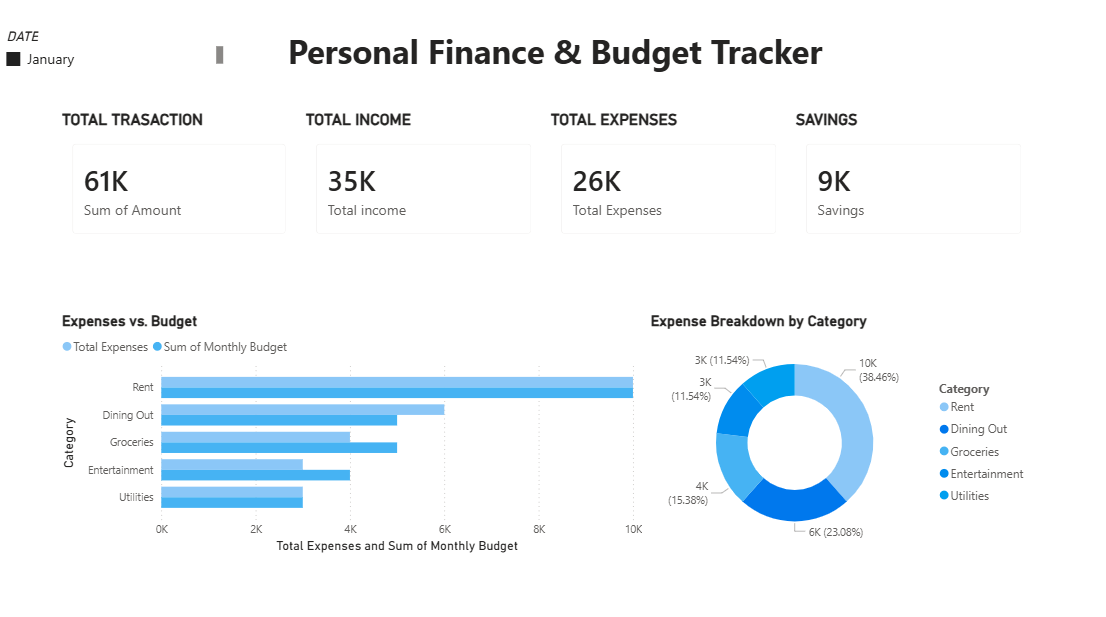

Layout of this report page (visuals, bound fields, positions):
{"tool":"powerbi","page":{"name":"Page 1","canvas":[1280,720],"ordinal":0},"visuals":[{"type":"cardVisual","title":"TOTAL TRASACTION ","fields":{"Data":["Sum(Transactions.Amount)"]},"box":[71.4,130,278.6,158.6],"z":0},{"type":"cardVisual","title":"TOTAL EXPENSES","fields":{"Data":["Transactions.Total Expenses"]},"box":[630,130,280,158.6],"z":1000},{"type":"cardVisual","title":"SAVINGS","fields":{"Data":["Transactions.Savings"]},"box":[910,130,280,158.6],"z":2000},{"type":"donutChart","title":"Expense Breakdown by Category","fields":{"Category":["Transactions.Category"],"Y":["Transactions.Total Expenses"]},"box":[744.3,360,445.7,280],"z":3000},{"type":"clusteredBarChart","title":"Expenses vs. Budget","fields":{"Category":["Budgets.Category"],"Y":["Transactions.Total Expenses","Sum(Budgets.Monthly Budget)"]},"box":[71.4,360,672.9,280],"z":4000},{"type":"textbox","box":[0,31.4,1280,71.4],"z":4002},{"type":"cardVisual","title":"TOTAL INCOME","fields":{"Data":["Transactions.Total income"]},"box":[350,130,280,158.6],"z":4003},{"type":"slicer","fields":{"Values":["Transactions.Date.Variation.Date Hierarchy.Month"]},"box":[0,31.4,265.7,60],"z":4004}]}

Visuals, with their boxes in screenshot pixels (x1, y1, x2, y2), scaled from the page's 1280x720 canvas onto the 1106x617 screenshot:
"TOTAL TRASACTION " cardVisual: x1=62, y1=111, x2=302, y2=247
"TOTAL EXPENSES" cardVisual: x1=544, y1=111, x2=786, y2=247
"SAVINGS" cardVisual: x1=786, y1=111, x2=1028, y2=247
"Expense Breakdown by Category" donutChart: x1=643, y1=308, x2=1028, y2=548
"Expenses vs. Budget" clusteredBarChart: x1=62, y1=308, x2=643, y2=548
textbox: x1=0, y1=27, x2=1105, y2=88
"TOTAL INCOME" cardVisual: x1=302, y1=111, x2=544, y2=247
slicer - Transactions.Date.Variation.Date Hierarchy.Month: x1=0, y1=27, x2=230, y2=78
